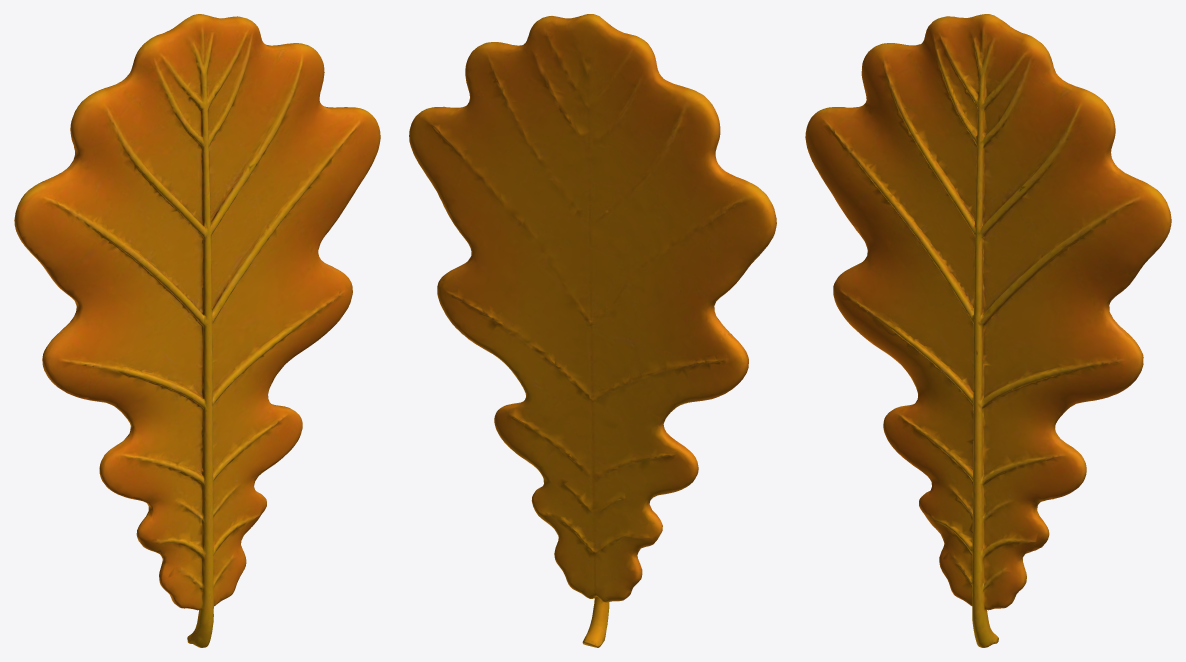
3 renders of one model, left to right at view 1: azimuth 30°, elevation 25°; view 2: azimuth 150°, elevation 25°; view 3: azimuth 330°, elevation 25°, orthographic.
Size of the model in its own units: 1.15 by 1.9 by 0.1045.
Materials: 1 (1 with a texture image).
